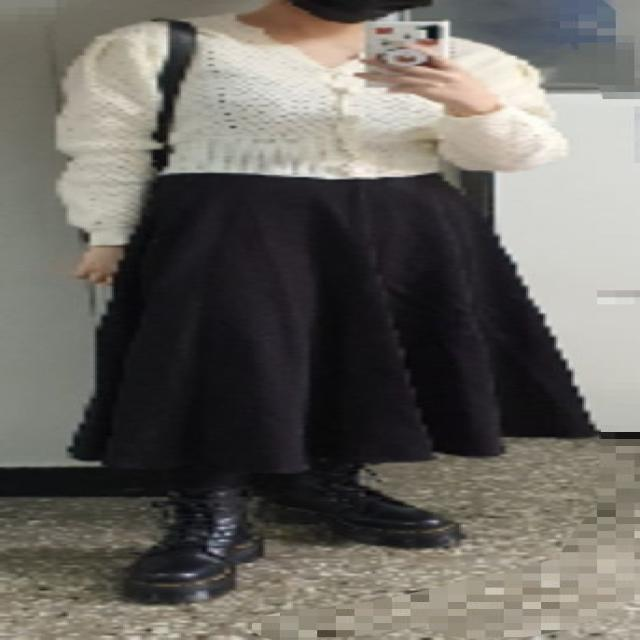cardigan: (51, 8, 546, 242)
skirt: (70, 160, 604, 469)
